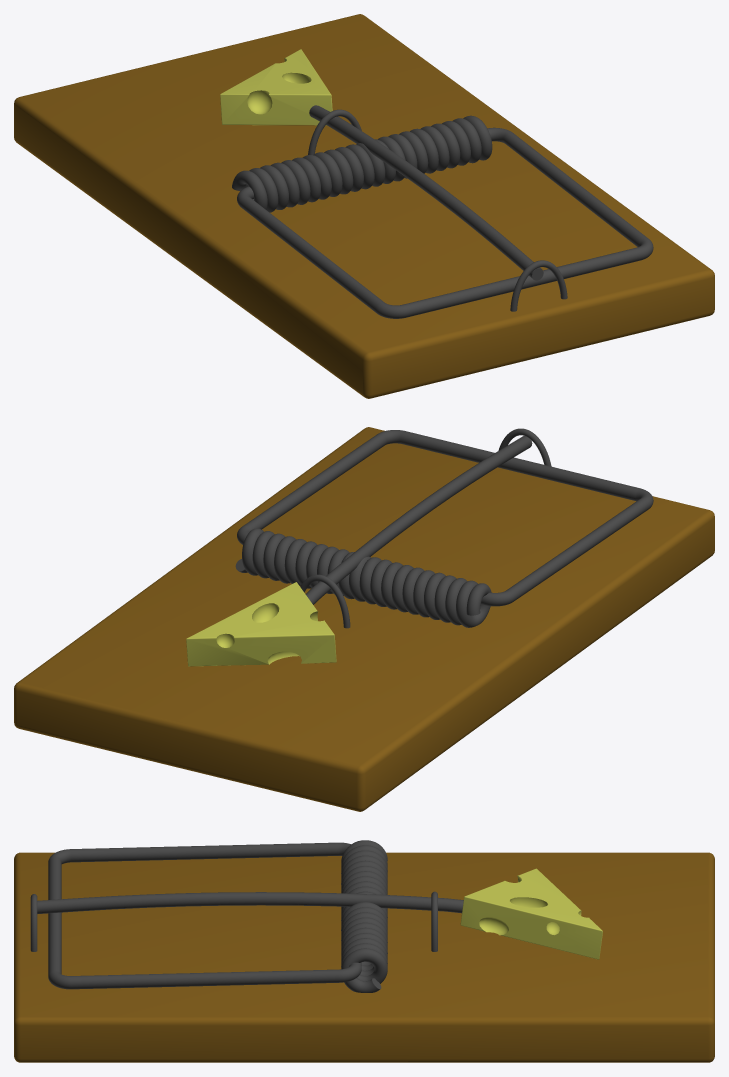
The model's file is trap.fbx.
The picture shows the model from 3 angles, top to bottom: view 1: azimuth 30°, elevation 25°; view 2: azimuth 150°, elevation 25°; view 3: azimuth 270°, elevation 25°; orthographic projection.
Visible parts, largest first — view 1: Cube, spring, vierkant, Extrude, middenStok, backHolder; view 2: Cube, spring, vierkant, Extrude, middenStok, frontHolder; view 3: Cube, vierkant, Extrude, spring, middenStok, backHolder, frontHolder, Sphere_4.
Boxes of the visible parts, <box> form: Cube: <box>14,14,714,398</box>; spring: <box>232,115,492,212</box>; vierkant: <box>237,127,653,318</box>; Extrude: <box>220,49,332,125</box>; middenStok: <box>309,105,543,280</box>; backHolder: <box>510,260,567,311</box>; Cube: <box>14,427,714,811</box>; spring: <box>235,528,491,627</box>; vierkant: <box>237,430,653,606</box>; Extrude: <box>186,582,336,666</box>; middenStok: <box>305,436,532,604</box>; frontHolder: <box>300,574,350,628</box>; Cube: <box>14,852,714,1062</box>; vierkant: <box>48,842,361,989</box>; Extrude: <box>460,868,602,959</box>; spring: <box>341,840,387,992</box>; middenStok: <box>37,892,463,913</box>; backHolder: <box>30,894,37,951</box>; frontHolder: <box>431,891,437,951</box>; Sphere_4: <box>479,917,508,935</box>.
Bounding box in the file's own units: 120 × 30.51 × 210.
